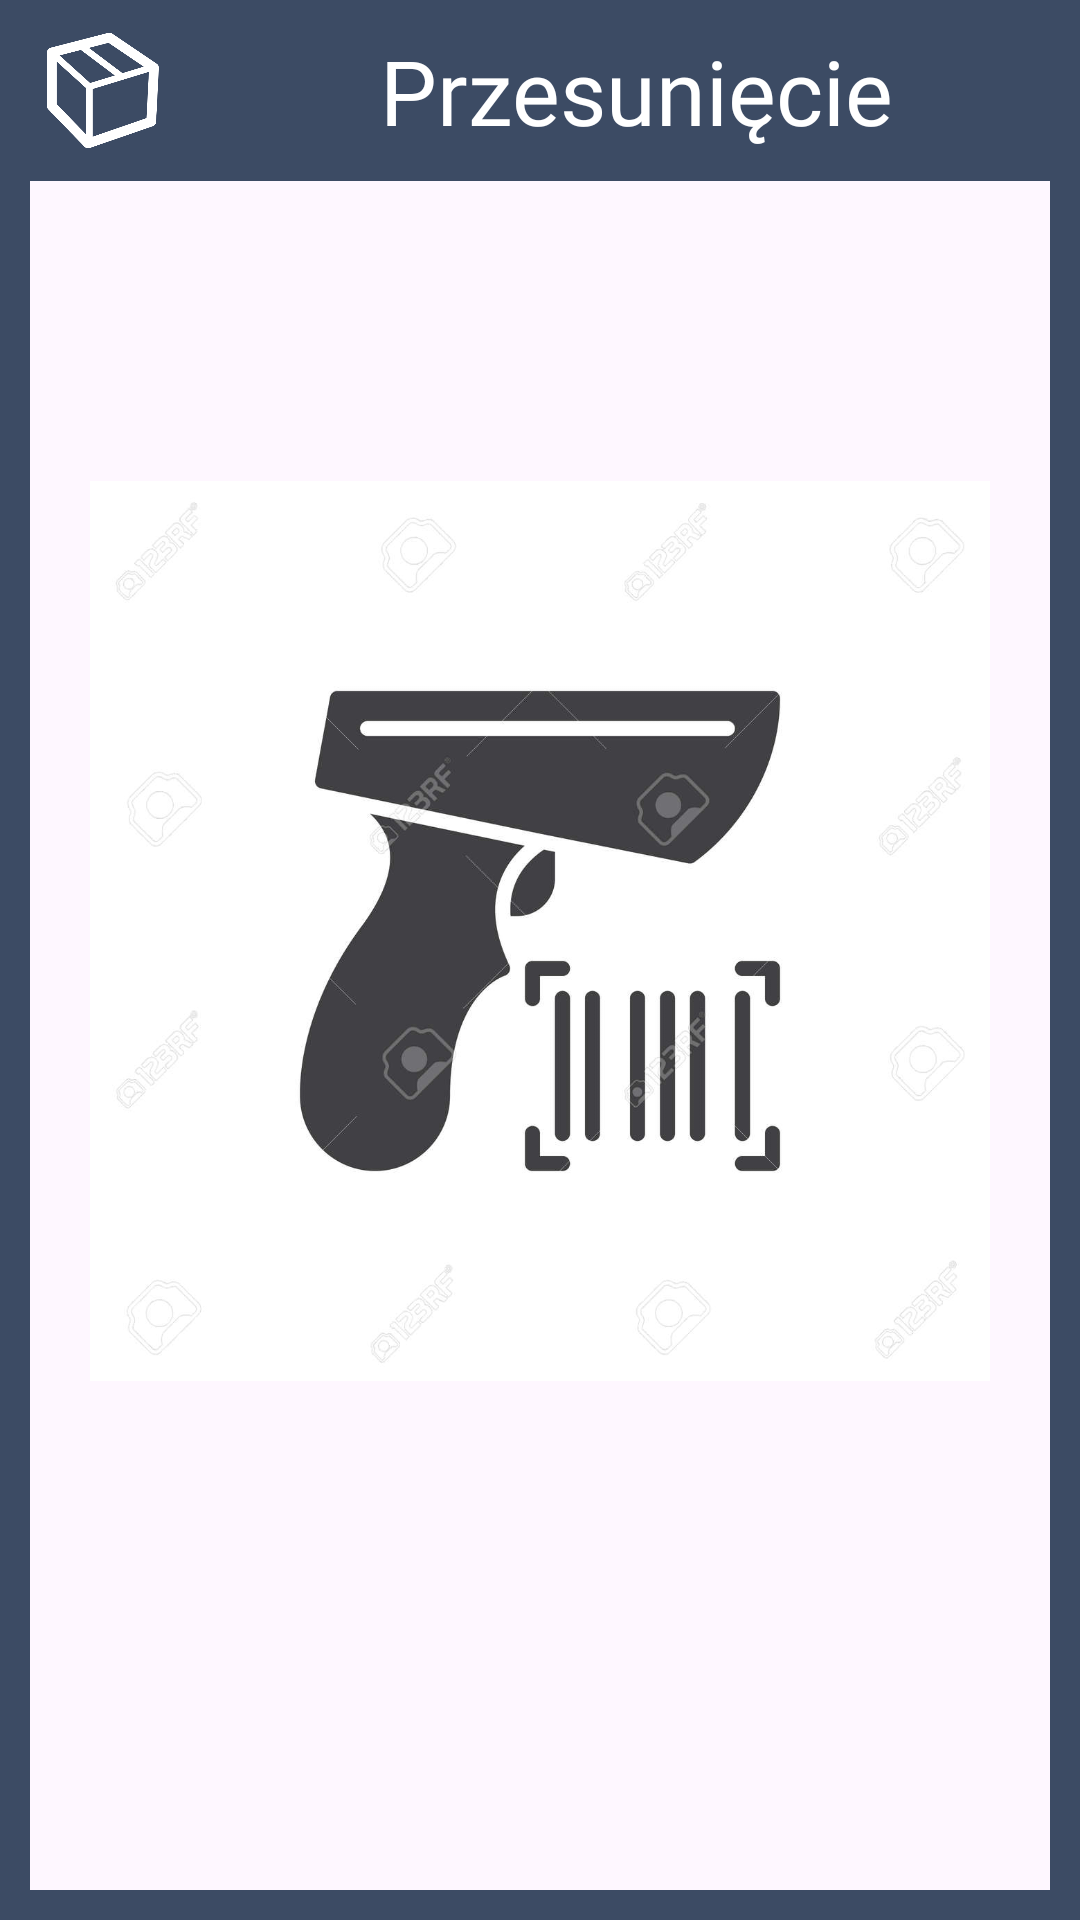

Icon bounding boxes for this 1080×1920 phone screenshot, format region(x1, y1, x2, y2):
inwento: region(47, 33, 159, 148)
